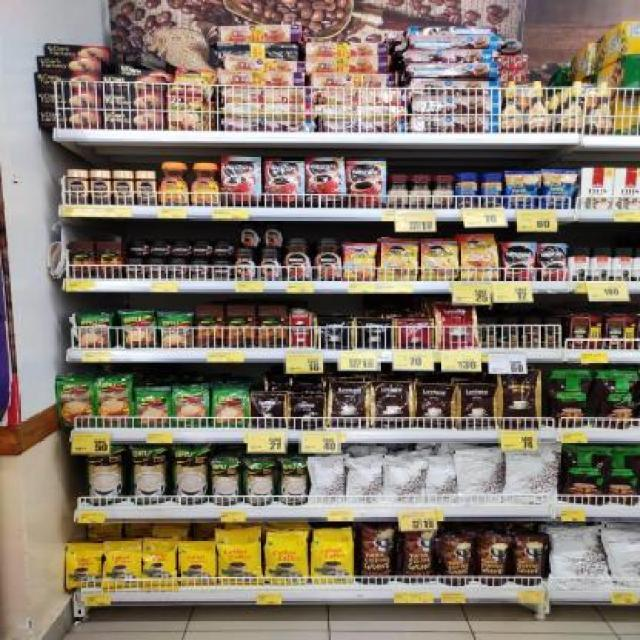Coffee: (222, 157, 262, 206), (307, 158, 345, 207), (267, 158, 305, 207), (348, 161, 386, 208), (460, 235, 498, 279), (380, 238, 418, 280), (420, 240, 458, 281), (501, 242, 537, 280), (158, 163, 188, 206), (191, 163, 219, 207), (535, 243, 569, 279), (343, 244, 377, 280), (285, 237, 313, 279), (314, 238, 341, 280), (136, 170, 158, 204), (259, 249, 283, 280), (114, 170, 133, 206), (92, 170, 111, 204), (68, 169, 88, 201), (236, 249, 257, 279), (239, 221, 261, 248), (263, 221, 285, 247), (124, 258, 145, 279), (127, 238, 149, 257), (212, 261, 234, 280), (214, 239, 235, 258), (148, 259, 166, 279), (169, 260, 187, 280), (153, 238, 171, 257), (173, 239, 192, 257), (194, 239, 212, 258), (191, 260, 209, 279)
